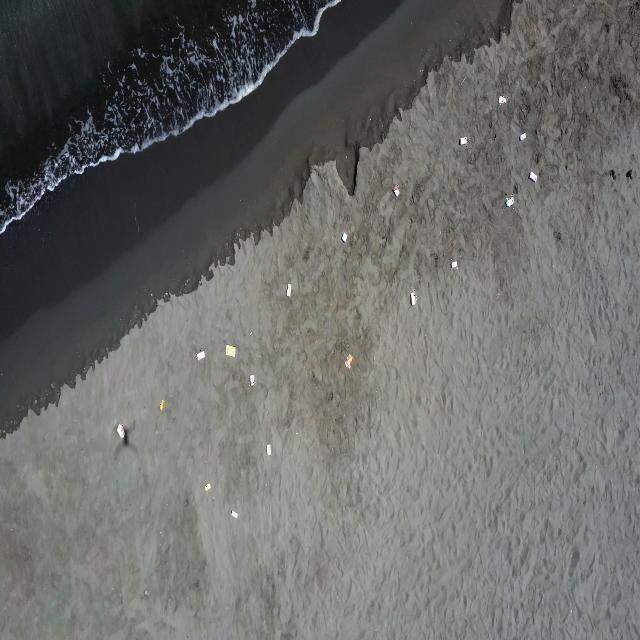Garbage: (224, 344, 236, 356), (116, 423, 124, 440), (504, 193, 513, 207), (344, 353, 352, 367), (392, 183, 399, 196), (409, 289, 415, 304), (196, 350, 204, 360), (497, 95, 507, 103), (340, 232, 347, 243), (286, 283, 291, 296), (203, 483, 211, 491), (519, 131, 526, 140), (528, 172, 535, 181), (459, 136, 467, 143), (266, 444, 271, 455), (249, 373, 253, 386), (160, 400, 164, 411), (451, 260, 456, 268), (231, 510, 236, 517), (248, 331, 252, 335), (295, 432, 298, 433)
